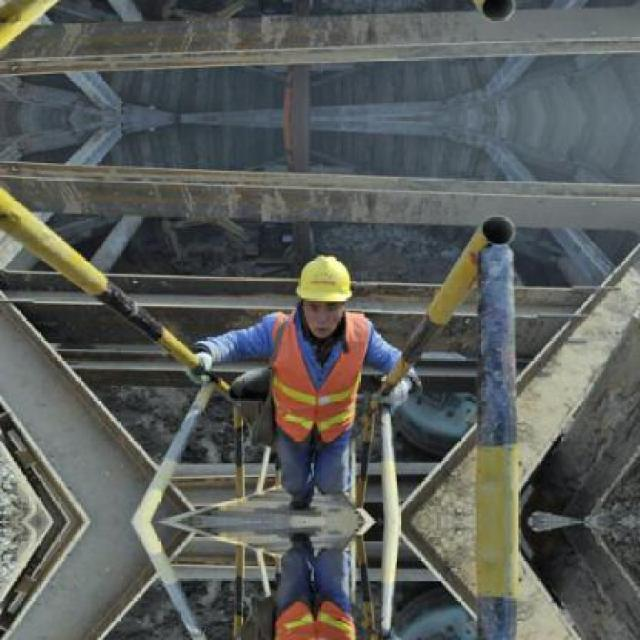helmet: (292, 247, 360, 336)
